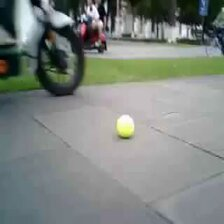tennis: (116, 115, 134, 139)
